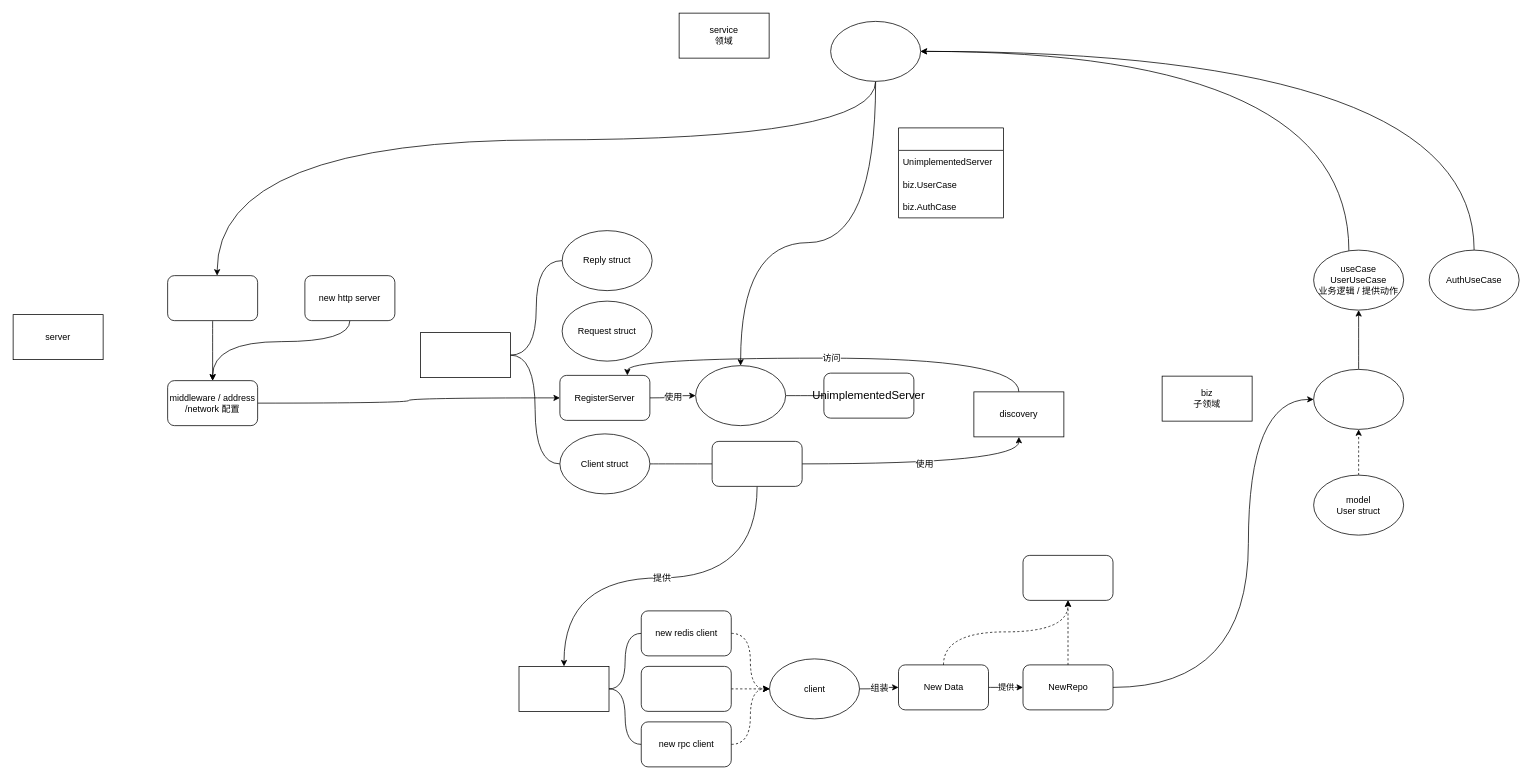
Some shapes in this 1532 by 780 pixel diagram are drawn without their labels. The box of each missing label's shape, as (x1, y1, x2, y2) in pixels:
api: (420, 332, 510, 378)
db: (518, 666, 609, 711)
new gorm client: (640, 666, 731, 711)
new grpc server: (167, 275, 258, 321)
newClient: (711, 441, 802, 486)
repo interface UserRepo: (1313, 369, 1404, 429)
Server struct: (695, 365, 786, 426)
service struct: (830, 21, 921, 81)
struct: (898, 127, 1004, 218)
wire ProviderSet: (1022, 555, 1113, 600)
